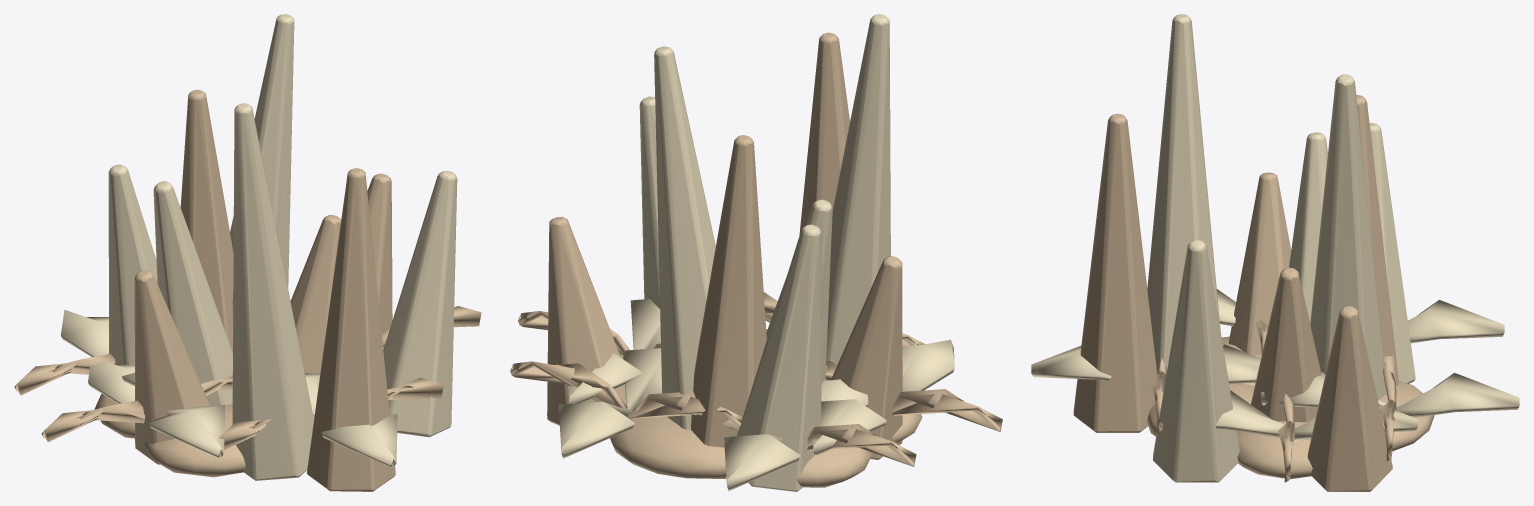
Rendered from bio_crystal_fan_10_far.glb.
3 views of the same model, side by side, from view 1: azimuth 30°, elevation 25°; view 2: azimuth 150°, elevation 25°; view 3: azimuth 270°, elevation 25° (orthographic). The views are drawn at different scales.
Visible parts, largest first — view 1: Reflecting mineral prism.007, Reflecting mineral prism.002, Reflecting mineral prism.005, Reflecting mineral prism.009, Reflecting mineral prism.006, Reflecting mineral prism.004, Reflecting mineral prism.003, Reflecting mineral prism.001, Reflecting mineral prism, Low buttress leaf.017, Mineral substrate, Reflecting mineral prism.008 (+6 smaller); view 2: Reflecting mineral prism.003, Reflecting mineral prism.006, Reflecting mineral prism.007, Reflecting mineral prism.001, Reflecting mineral prism.008, Mineral substrate, Reflecting mineral prism.004, Reflecting mineral prism.002, Low buttress leaf.013, Low buttress leaf.017, Low buttress leaf.012, Low buttress leaf.005 (+6 smaller); view 3: Reflecting mineral prism.002, Reflecting mineral prism.005, Reflecting mineral prism.007, Reflecting mineral prism.003, Reflecting mineral prism.008, Reflecting mineral prism, Reflecting mineral prism.004, Mineral substrate, Reflecting mineral prism.009, Low buttress leaf.013, Reflecting mineral prism.001, Reflecting mineral prism.006 (+6 smaller).
Part boxes in pixels (x1=…): Reflecting mineral prism.007: x1=232, y1=103, x2=313, y2=480; Reflecting mineral prism.002: x1=307, y1=168, x2=395, y2=491; Reflecting mineral prism.005: x1=383, y1=171, x2=457, y2=437; Reflecting mineral prism.009: x1=153, y1=181, x2=232, y2=405; Reflecting mineral prism.006: x1=180, y1=89, x2=233, y2=352; Reflecting mineral prism.004: x1=134, y1=270, x2=210, y2=464; Reflecting mineral prism.003: x1=230, y1=14, x2=294, y2=336; Reflecting mineral prism.001: x1=108, y1=164, x2=157, y2=365; Reflecting mineral prism: x1=290, y1=215, x2=341, y2=373; Low buttress leaf.017: x1=88, y1=356, x2=224, y2=457; Mineral substrate: x1=94, y1=393, x2=245, y2=477; Reflecting mineral prism.008: x1=367, y1=173, x2=392, y2=331; Reflecting mineral prism.003: x1=654, y1=46, x2=715, y2=429; Reflecting mineral prism.006: x1=691, y1=135, x2=766, y2=447; Reflecting mineral prism.007: x1=826, y1=14, x2=890, y2=364; Reflecting mineral prism.001: x1=737, y1=224, x2=821, y2=491; Reflecting mineral prism.008: x1=547, y1=216, x2=625, y2=425; Mineral substrate: x1=610, y1=414, x2=922, y2=487; Reflecting mineral prism.004: x1=831, y1=256, x2=902, y2=459; Reflecting mineral prism.002: x1=799, y1=32, x2=849, y2=235; Low buttress leaf.013: x1=558, y1=348, x2=661, y2=458; Low buttress leaf.017: x1=812, y1=339, x2=954, y2=456; Low buttress leaf.012: x1=510, y1=361, x2=742, y2=430; Low buttress leaf.005: x1=724, y1=379, x2=868, y2=491; Reflecting mineral prism.002: x1=1073, y1=113, x2=1157, y2=432; Reflecting mineral prism.005: x1=1153, y1=239, x2=1239, y2=482; Reflecting mineral prism.007: x1=1147, y1=14, x2=1220, y2=374; Reflecting mineral prism.003: x1=1310, y1=74, x2=1386, y2=399; Reflecting mineral prism.008: x1=1307, y1=306, x2=1392, y2=491; Reflecting mineral prism: x1=1251, y1=267, x2=1321, y2=422; Reflecting mineral prism.004: x1=1228, y1=172, x2=1291, y2=355; Mineral substrate: x1=1147, y1=336, x2=1434, y2=479; Reflecting mineral prism.009: x1=1289, y1=132, x2=1327, y2=323; Low buttress leaf.013: x1=1261, y1=372, x2=1519, y2=417; Reflecting mineral prism.001: x1=1369, y1=123, x2=1415, y2=383; Reflecting mineral prism.006: x1=1356, y1=95, x2=1398, y2=386.
Bounding box in the file's own units: 2.22 × 1.79 × 2.09.
